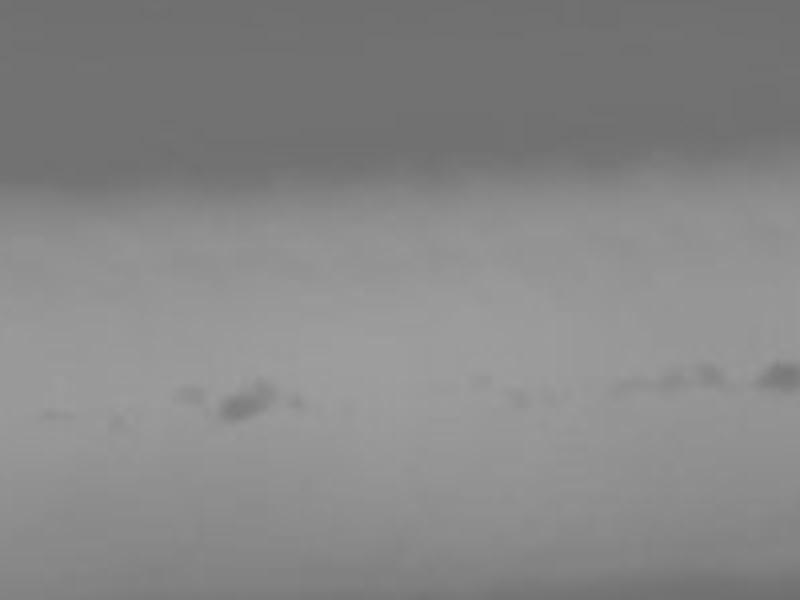defect: (651, 358, 722, 399), (746, 357, 798, 397), (220, 390, 268, 425), (170, 381, 206, 413), (96, 404, 132, 433), (506, 386, 539, 417), (465, 366, 496, 397), (44, 404, 77, 427), (249, 375, 275, 403), (284, 390, 308, 410)
